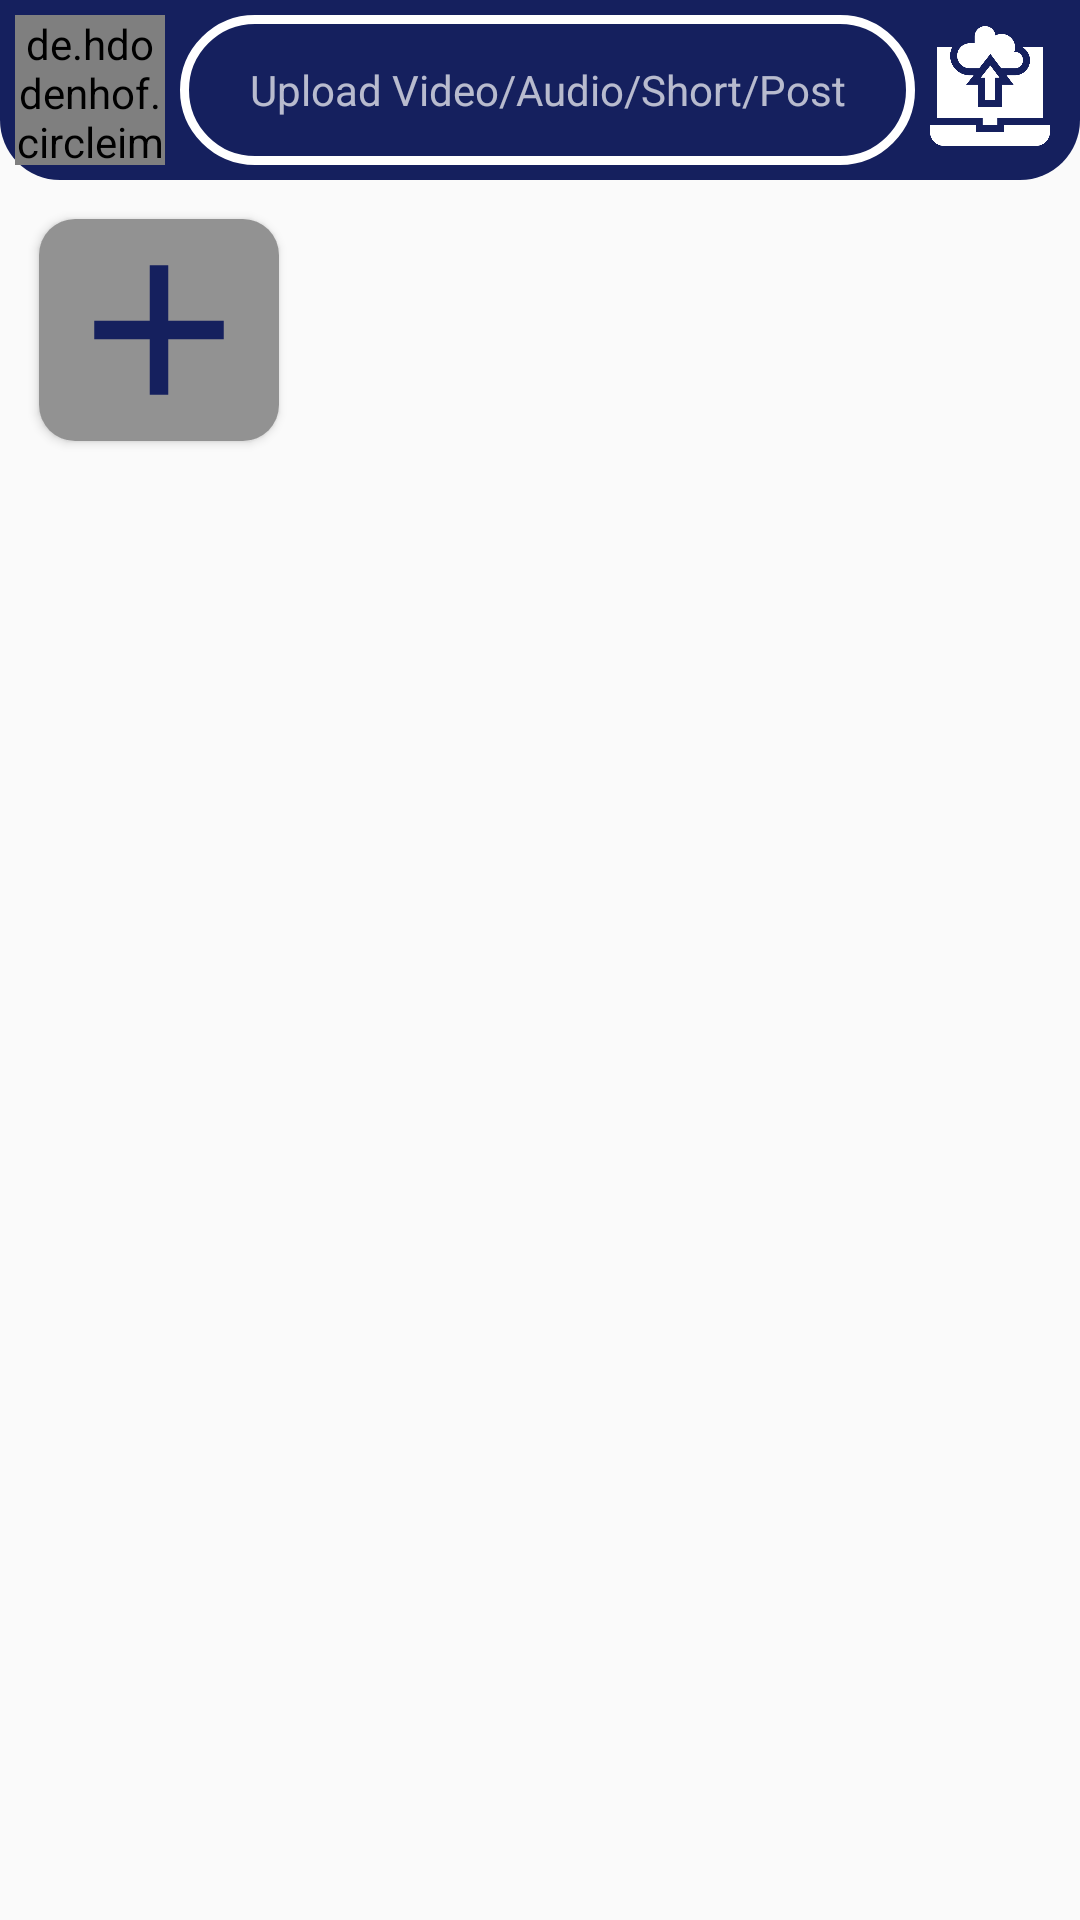

Icons on this 1080 × 1920 Android screen, each with the point to tap as [x,y]:
add: [159,330]
